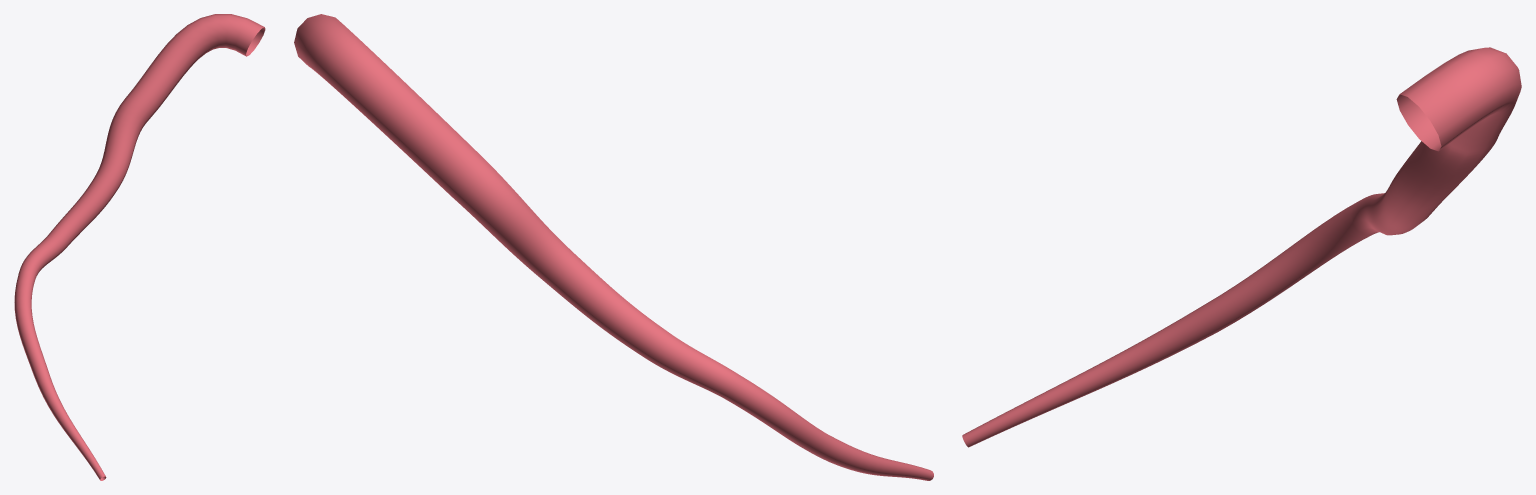
3 views of the same model, side by side, from view 1: azimuth 30°, elevation 25°; view 2: azimuth 150°, elevation 25°; view 3: azimuth 270°, elevation 25° (orthographic). The views are drawn at different scales.
Visible parts, largest first — view 1: ZA_d4665f0a6ed93659; view 2: ZA_d4665f0a6ed93659; view 3: ZA_d4665f0a6ed93659.
Boxes of the visible parts, <box> form: ZA_d4665f0a6ed93659: <box>14,14,265,480</box>; ZA_d4665f0a6ed93659: <box>294,14,933,480</box>; ZA_d4665f0a6ed93659: <box>962,47,1521,447</box>.
Size of the model in its own units: 0.0475 by 0.0497 by 0.0401.
